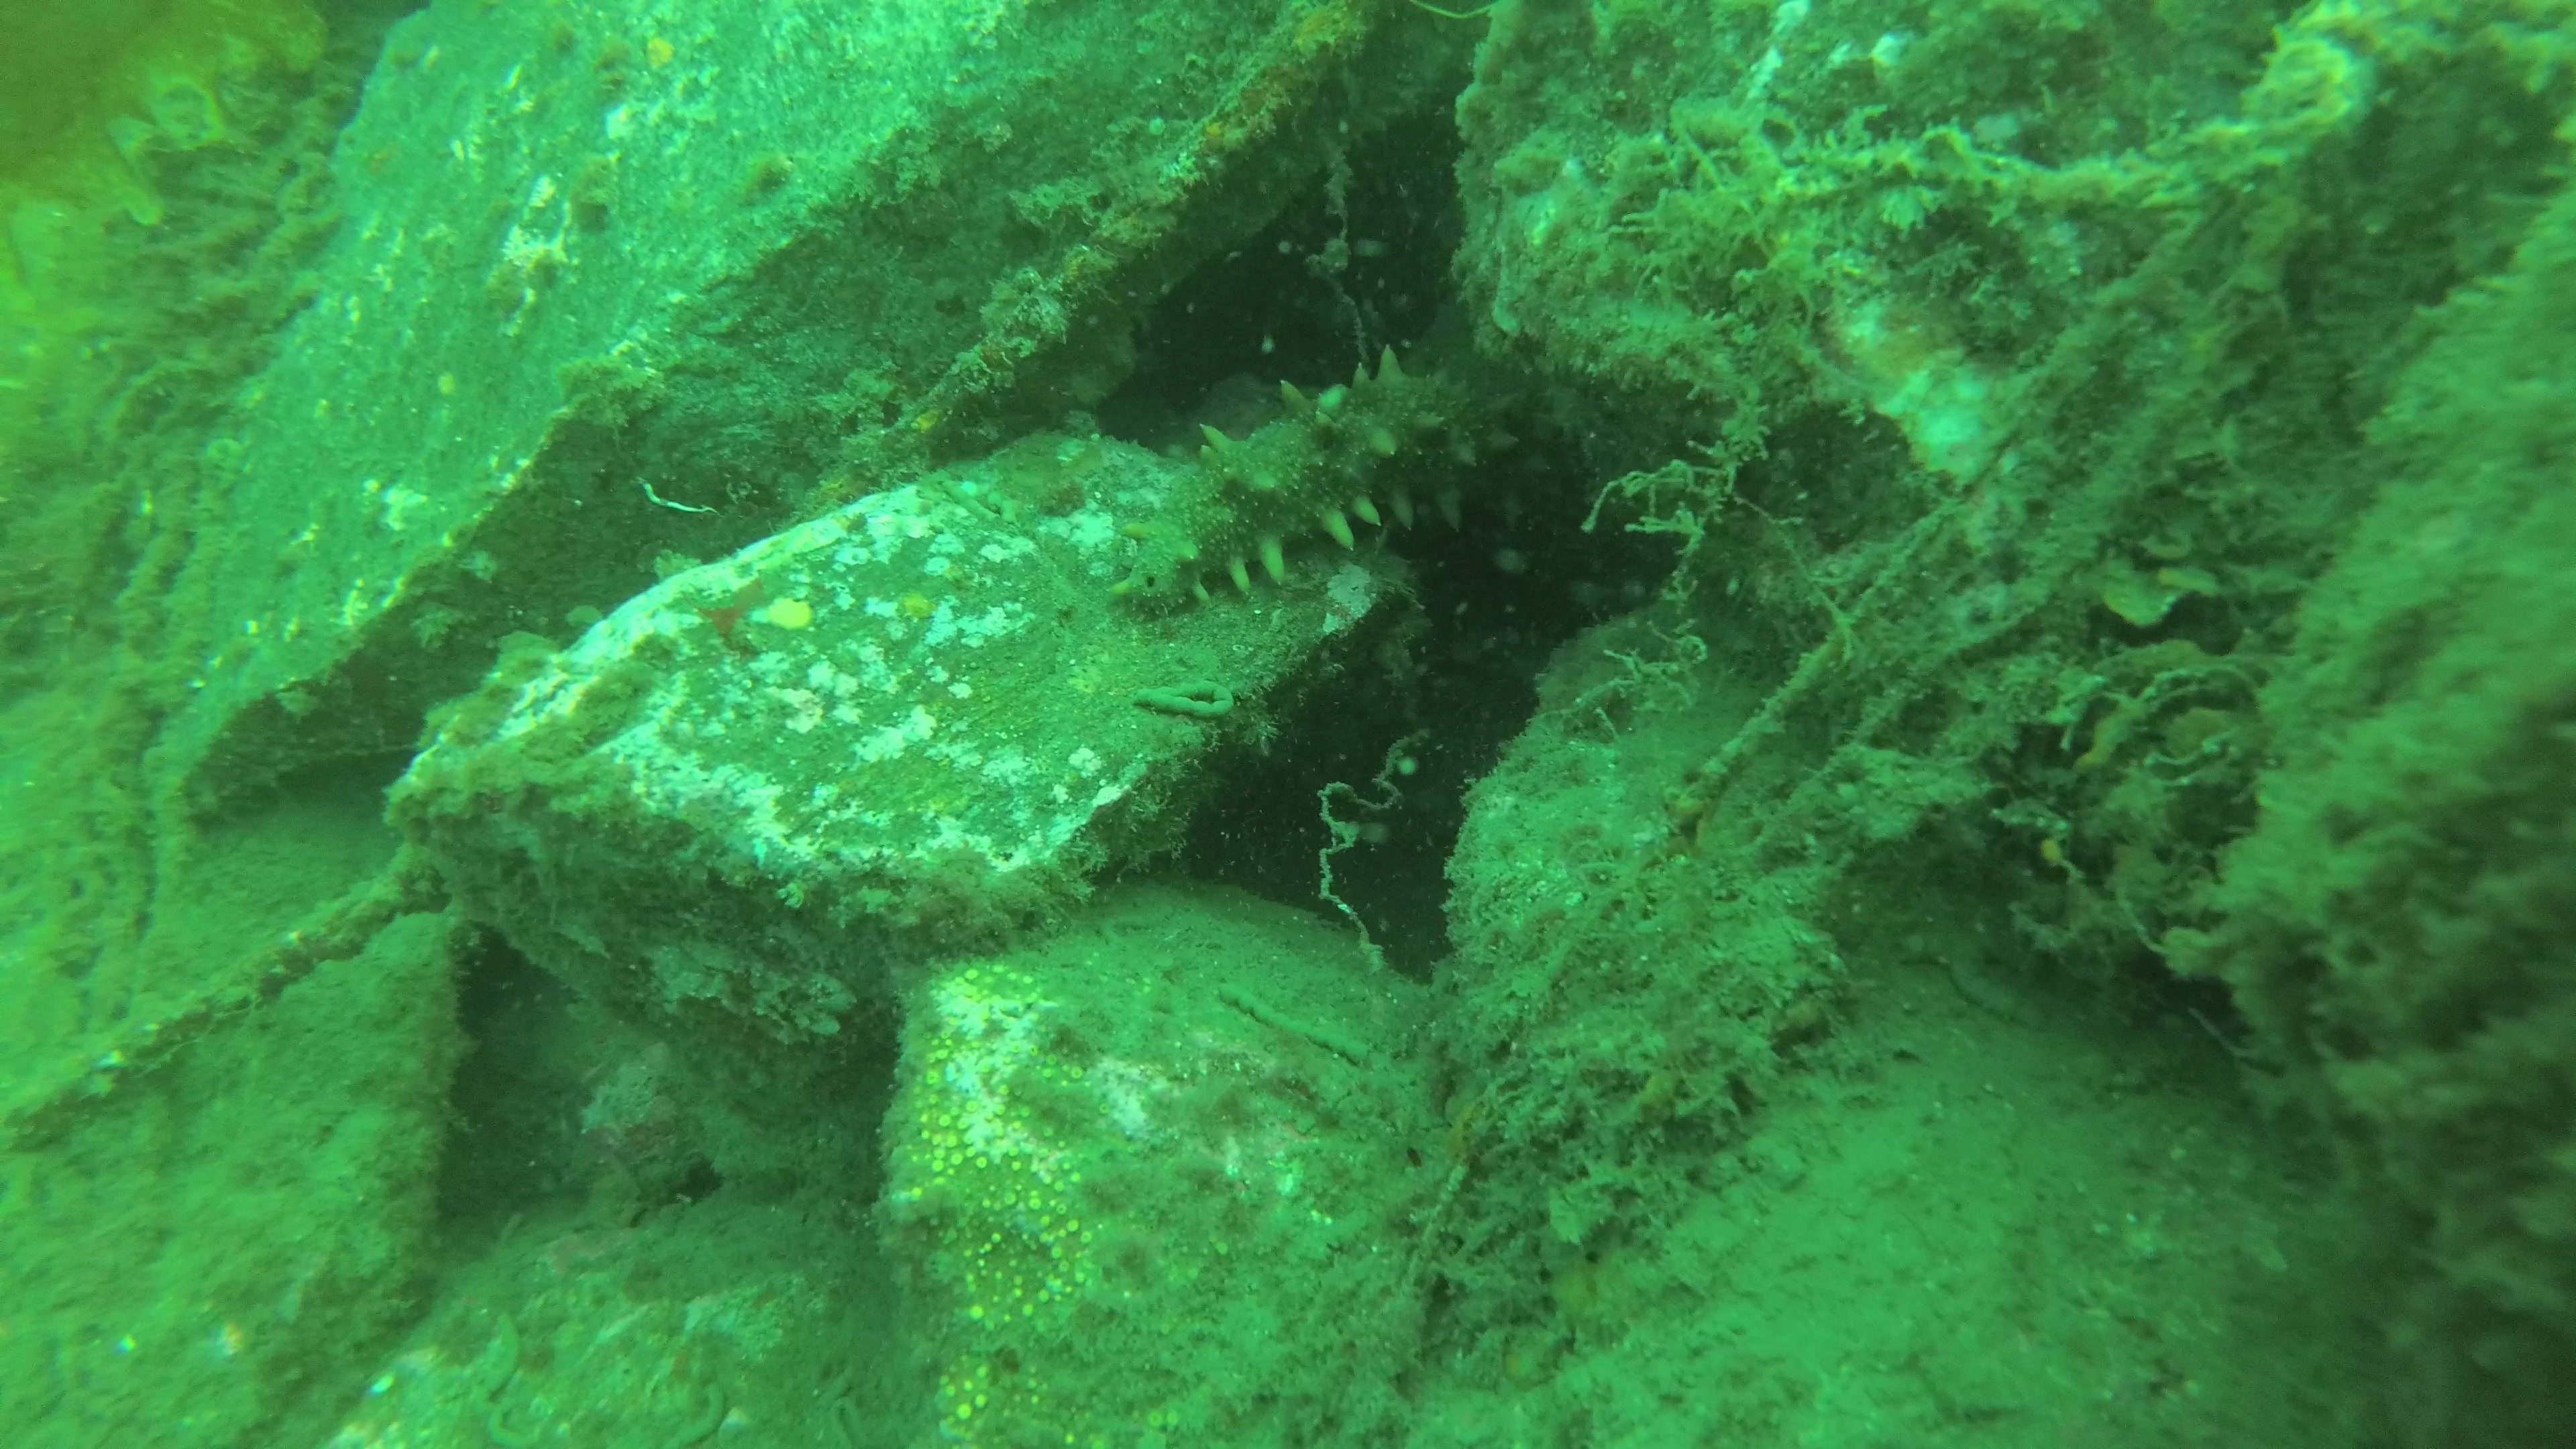holothurian: (1122, 343, 1527, 623)
